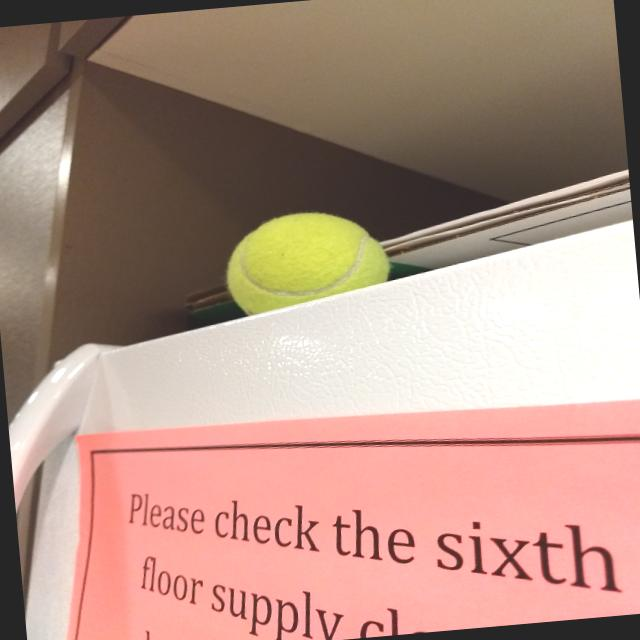Tennis Ball: (220, 200, 401, 321)
